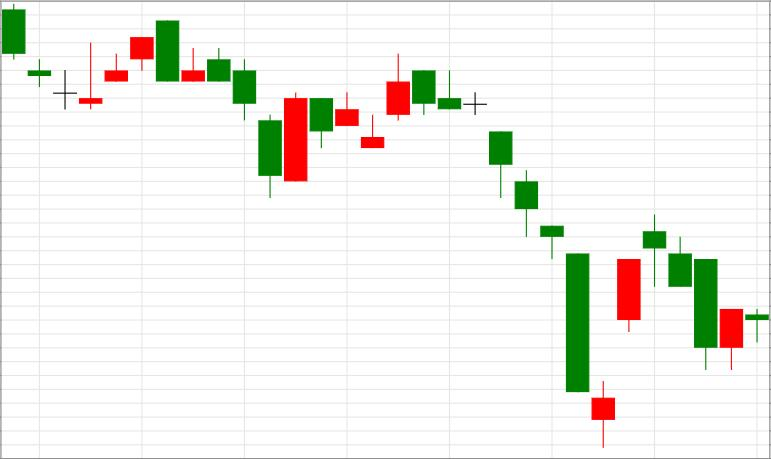bearish_engulfing_fall: (79, 21, 179, 109)
evening_star_fall: (592, 215, 692, 447)
morning_star_rise: (412, 71, 641, 447)
